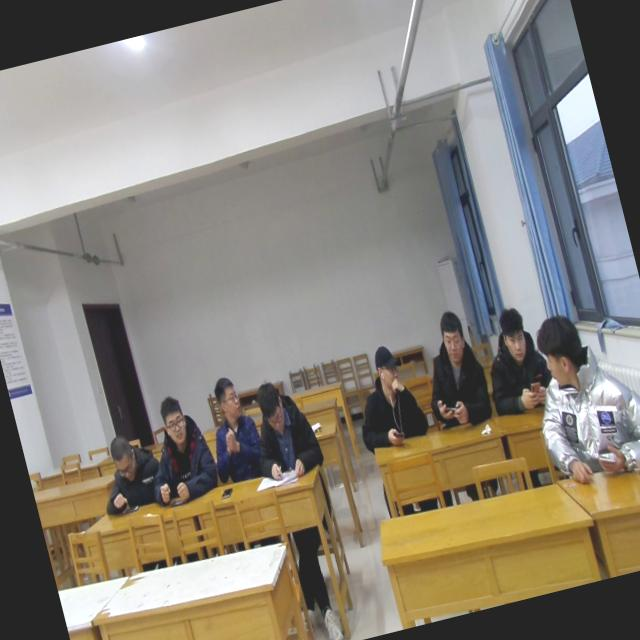bow: (86, 424, 168, 518)
down: (491, 301, 536, 366), (249, 372, 291, 437), (104, 426, 142, 484)
lookup: (432, 306, 474, 371), (153, 390, 191, 447)
sit: (513, 296, 640, 494), (406, 302, 497, 434), (340, 340, 434, 456), (470, 300, 560, 421), (132, 390, 222, 510), (240, 369, 327, 487), (195, 371, 270, 484)
